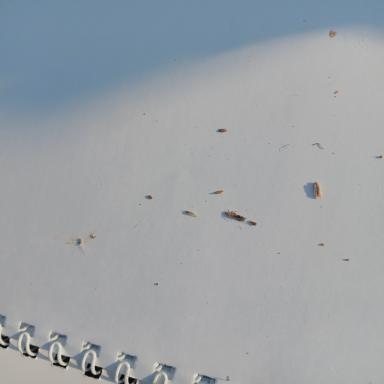pbw: (223, 208, 250, 224), (308, 180, 328, 201)
